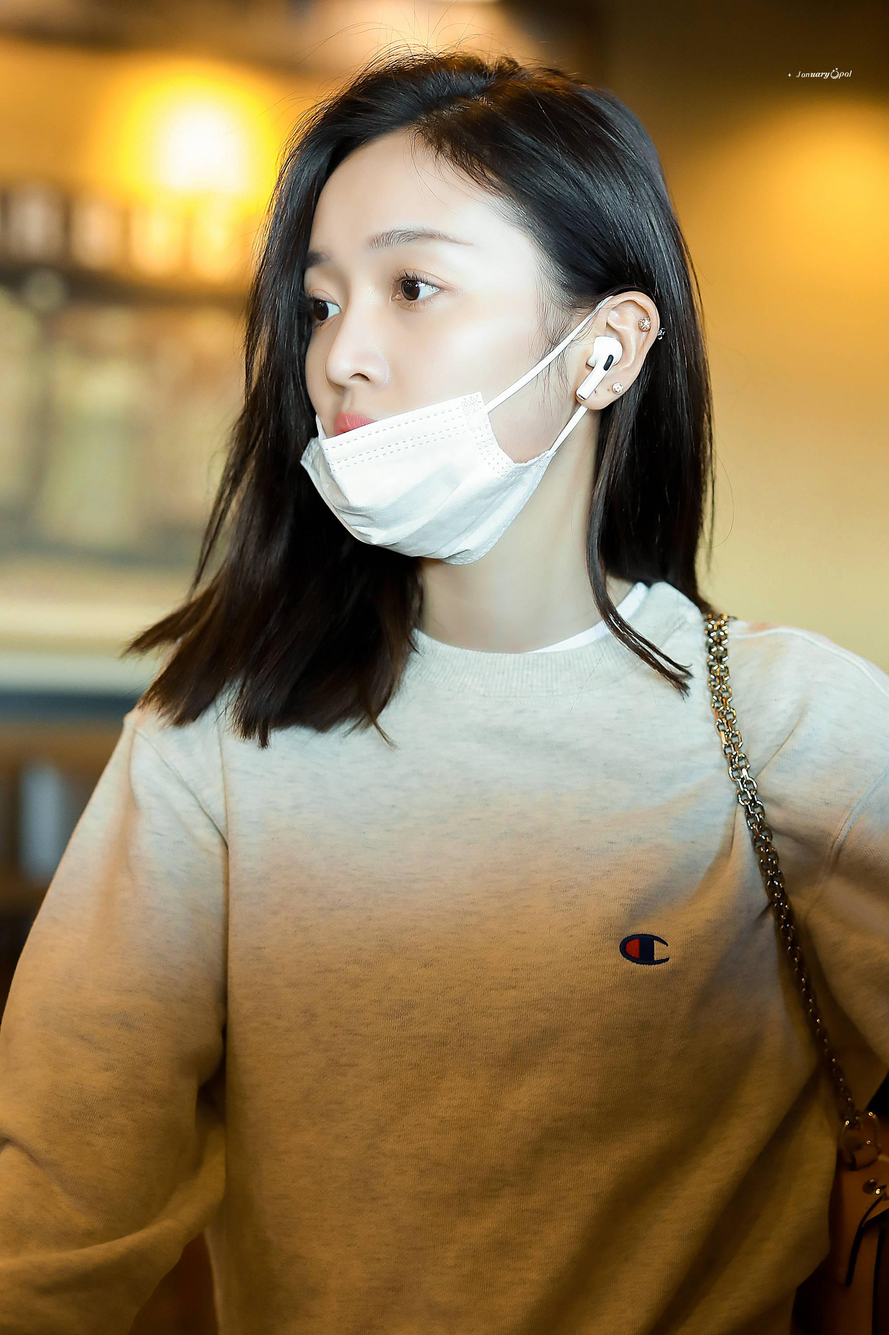WRONG: (300, 195, 518, 553)
